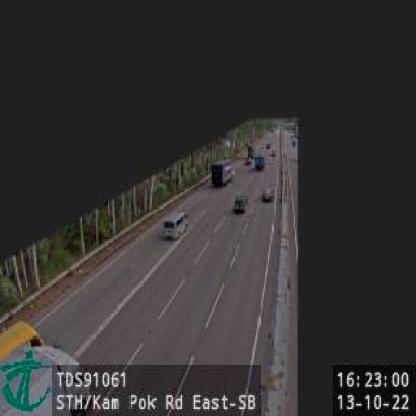Car: (161, 210, 189, 242), (233, 193, 248, 213), (260, 185, 273, 204)
Truck: (211, 160, 234, 186), (254, 150, 267, 171)
